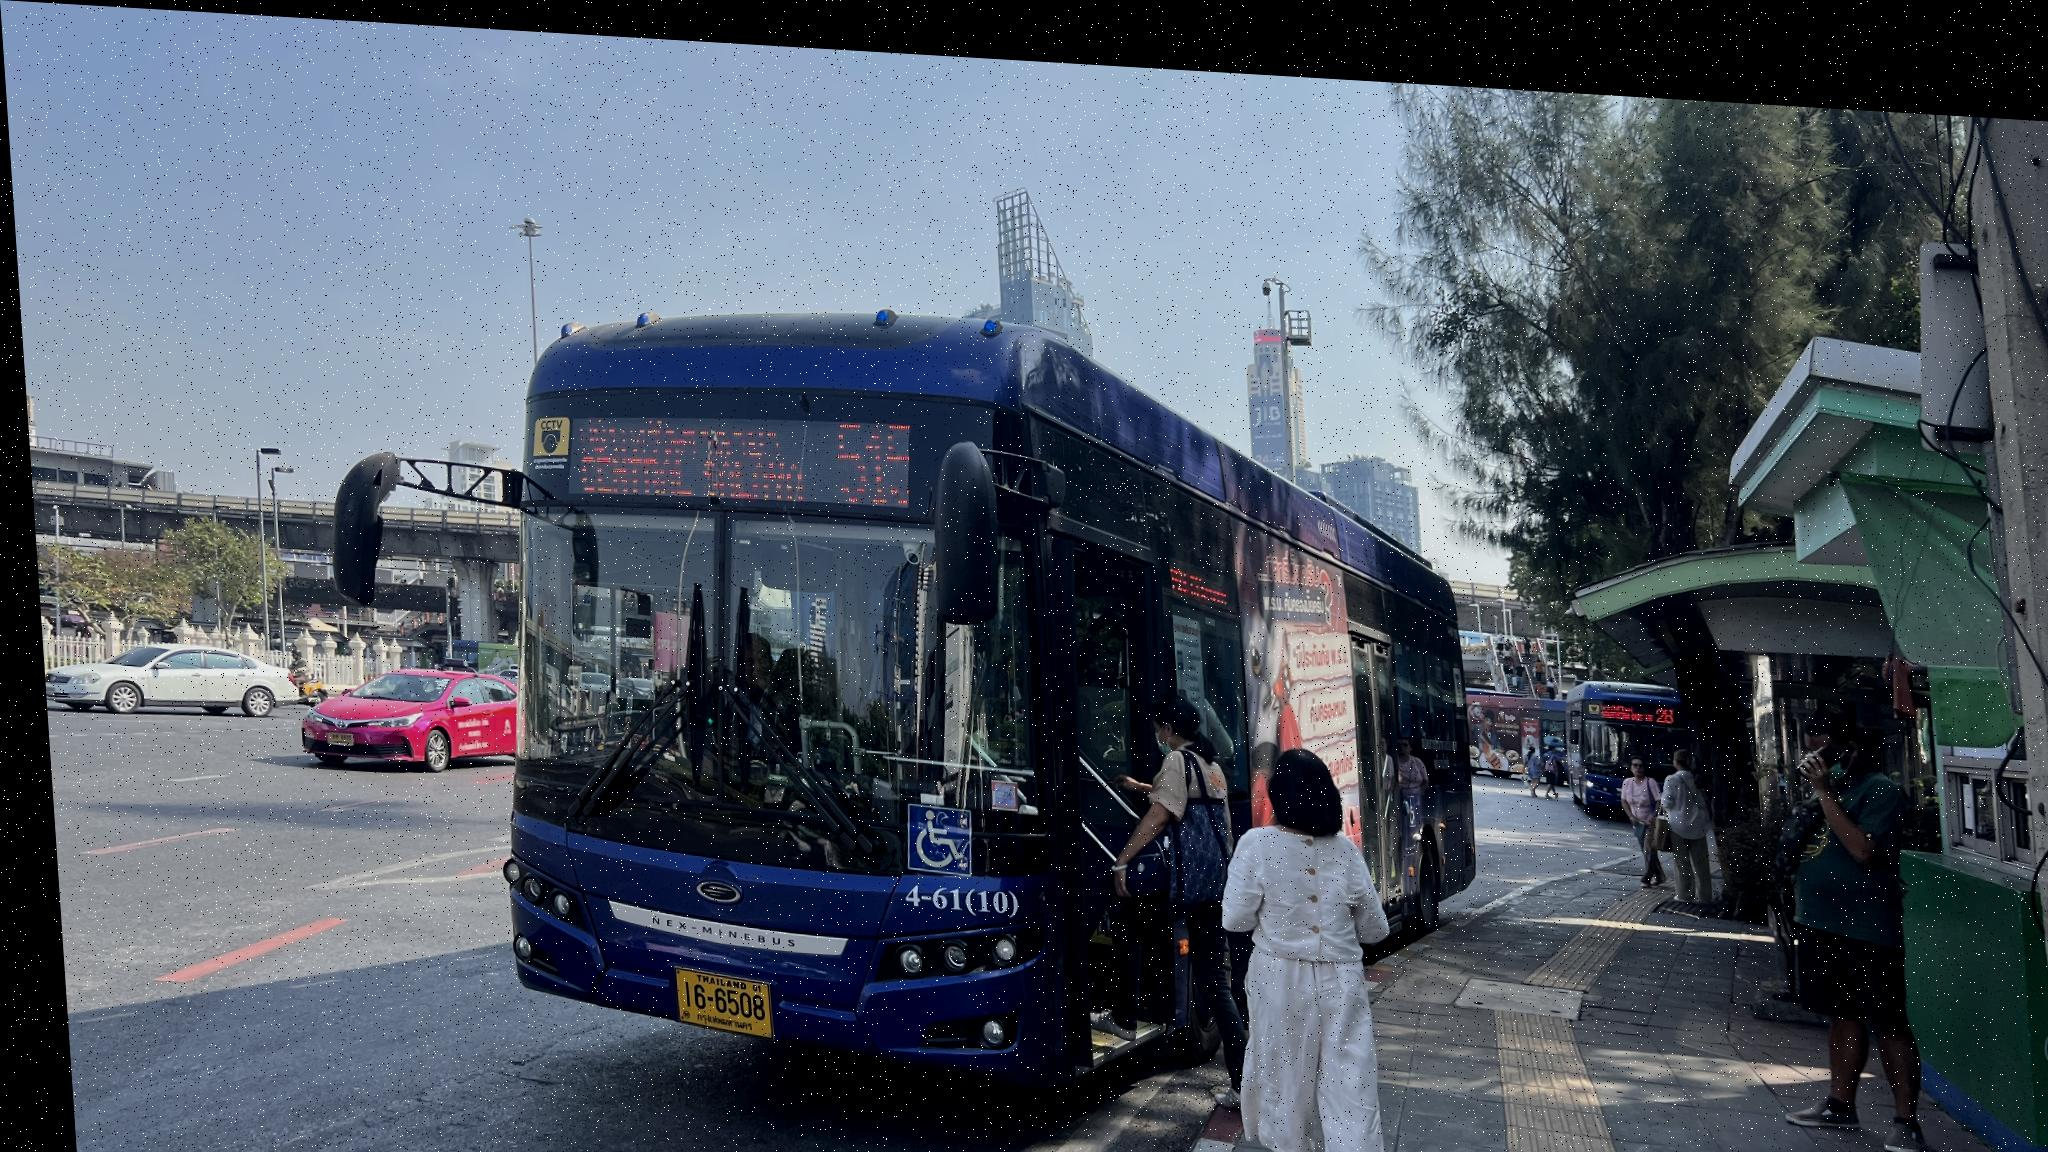Bus Line Number: (820, 398, 928, 505)
Bus Side Number: (881, 866, 1011, 917)
Destination Sign: (551, 394, 812, 504)
TSB-Bus: (489, 302, 1464, 1083)
